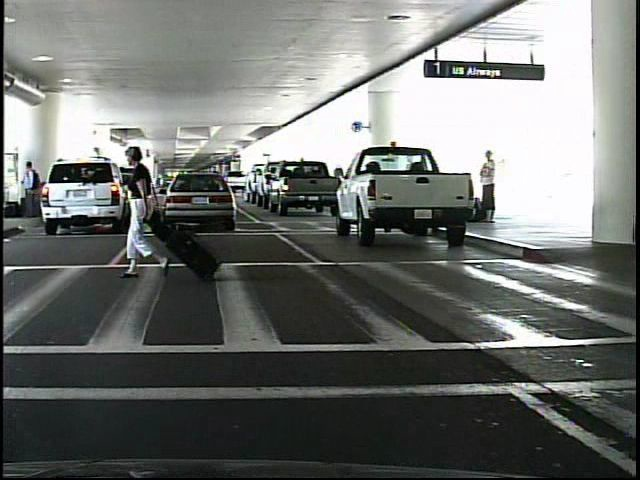person: (122, 147, 183, 283), (473, 152, 509, 225), (22, 159, 42, 220)
